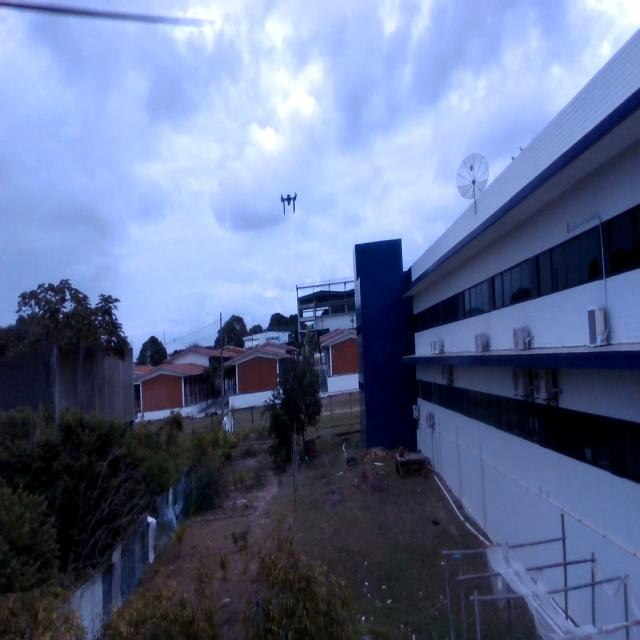-uav-: (278, 184, 302, 226)
